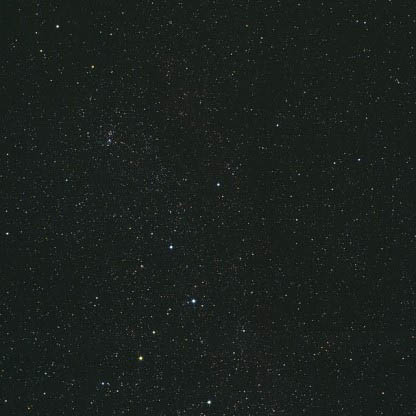Cassiopeia: (133, 324, 159, 364), (206, 171, 232, 203), (196, 390, 225, 413), (182, 294, 208, 314), (162, 237, 180, 257)
